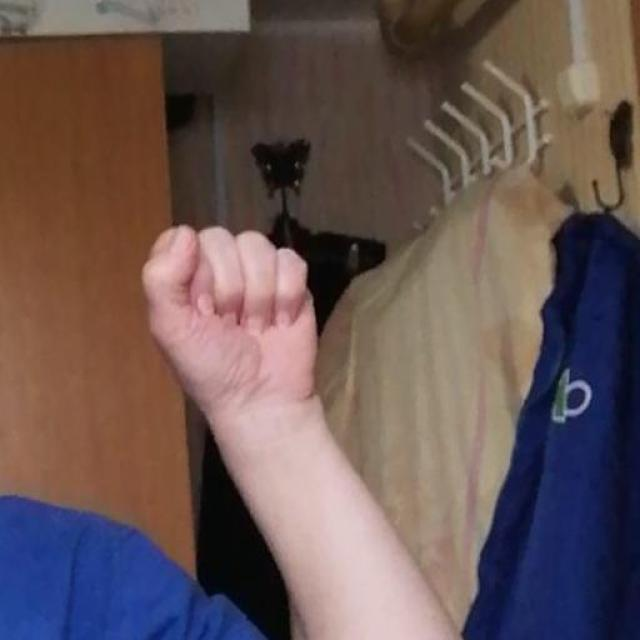hand: (140, 223, 320, 422)
